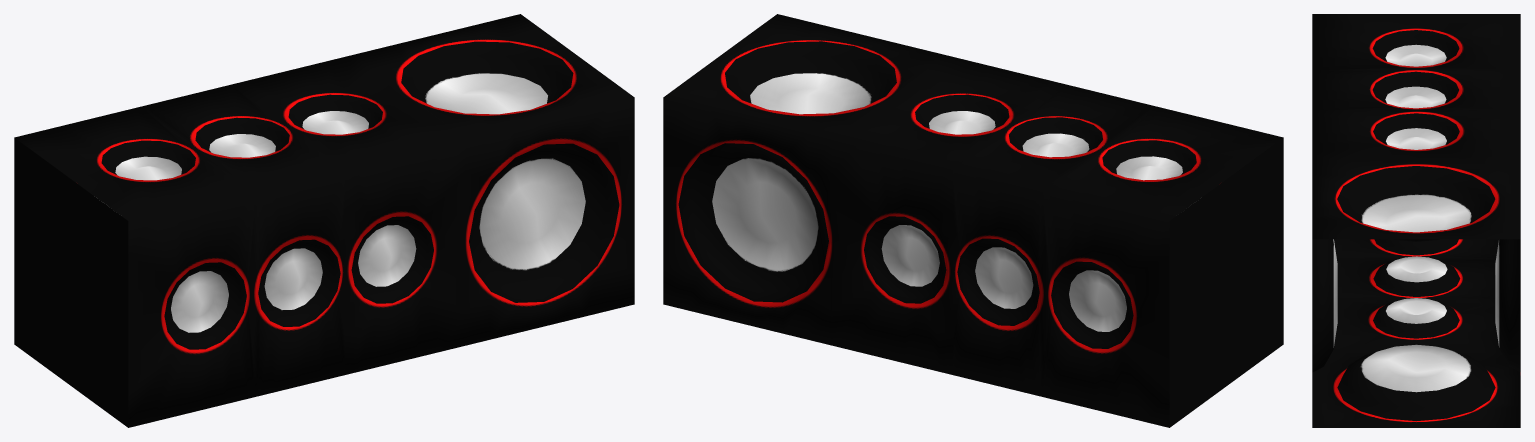
The model's file is speaker.FBX.
3 views of the same model, side by side, from view 1: azimuth 30°, elevation 25°; view 2: azimuth 150°, elevation 25°; view 3: azimuth 270°, elevation 25° (orthographic). The views are drawn at different scales.
Parts seen in each view (by area): view 1: Plane001; view 2: Plane001; view 3: Plane001.
Boxes of the visible parts, x1,y1,x2,y2 form: Plane001: (14, 14, 634, 427); Plane001: (663, 14, 1283, 427); Plane001: (1312, 14, 1520, 427).
Size of the model in its own units: 76.26 by 29.79 by 29.78.
Materials: 2 (2 with a texture image).
